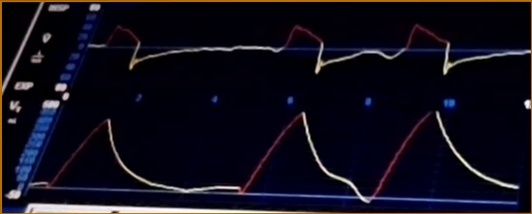Ineffective_effort Flow: (91, 22, 529, 79)
Ineffective_effort Volume: (32, 111, 519, 205)
